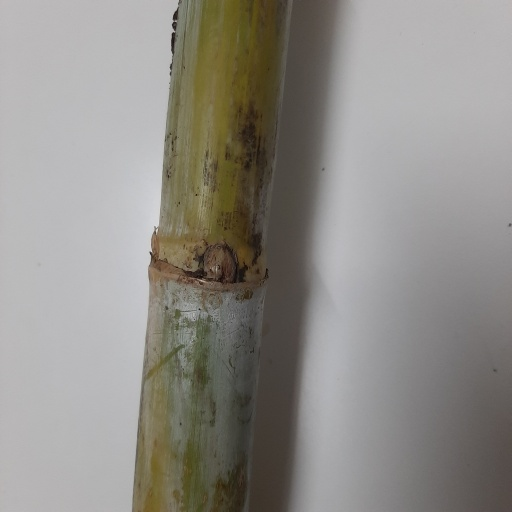Bud: (197, 242, 236, 282)
